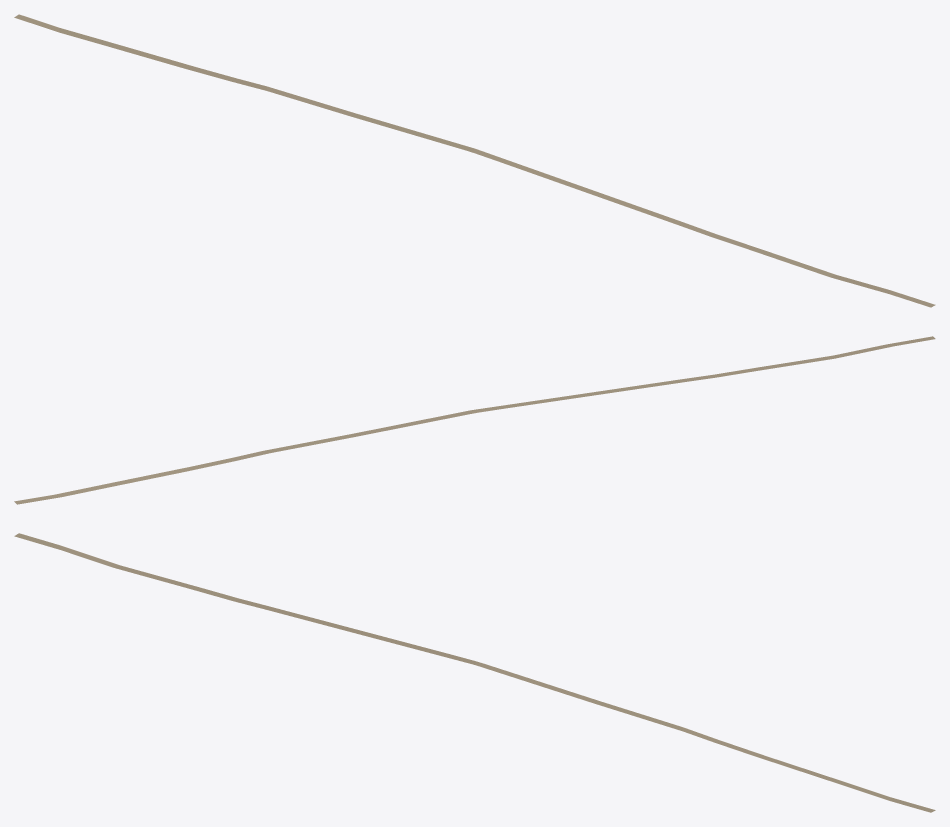
The model's file is farm_-8_7_track.glb.
3 views of the same model, one above another, from view 1: azimuth 90°, elevation 25°; view 2: azimuth 150°, elevation 25°; view 3: azimuth 270°, elevation 25° (orthographic). The views are drawn at different scales.
Parts seen in each view (by area): view 1: geometry_0; view 2: geometry_0; view 3: geometry_0.
Part boxes in pixels (x1,y1,x2,y2): geometry_0: (14, 14, 935, 307); geometry_0: (14, 336, 935, 504); geometry_0: (14, 533, 935, 812).
Bounding box in the file's own units: 261 × 6.18 × 355.
